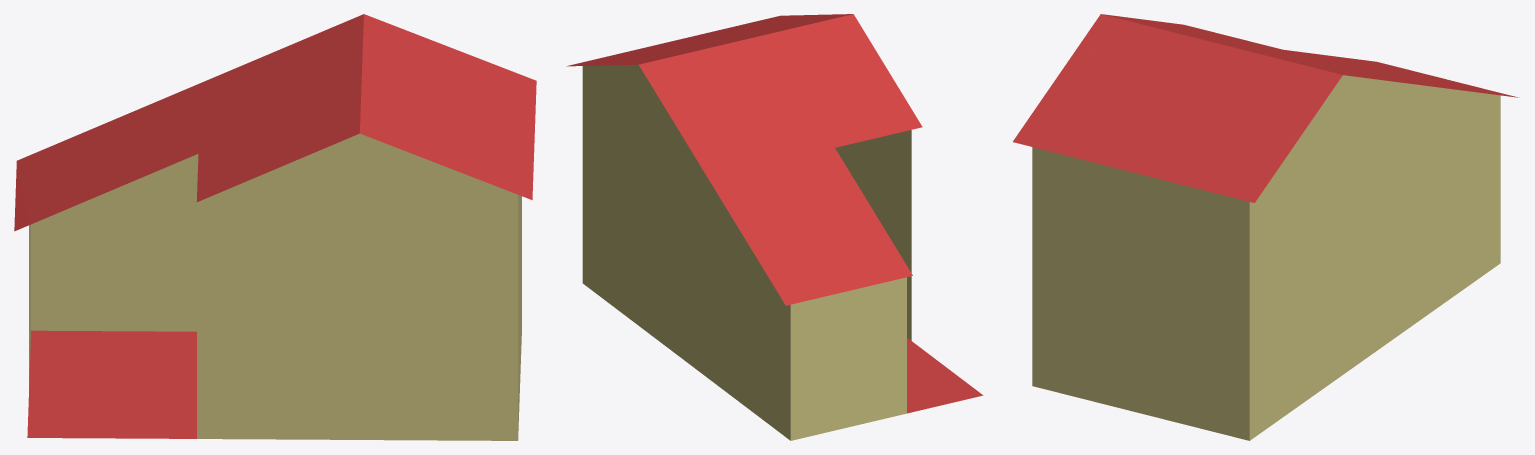
3 renders of one model, left to right at view 1: azimuth 30°, elevation 25°; view 2: azimuth 150°, elevation 25°; view 3: azimuth 270°, elevation 25°, orthographic. The views are drawn at different scales.
Size of the model in its own units: 19.61 by 17.49 by 11.84.
